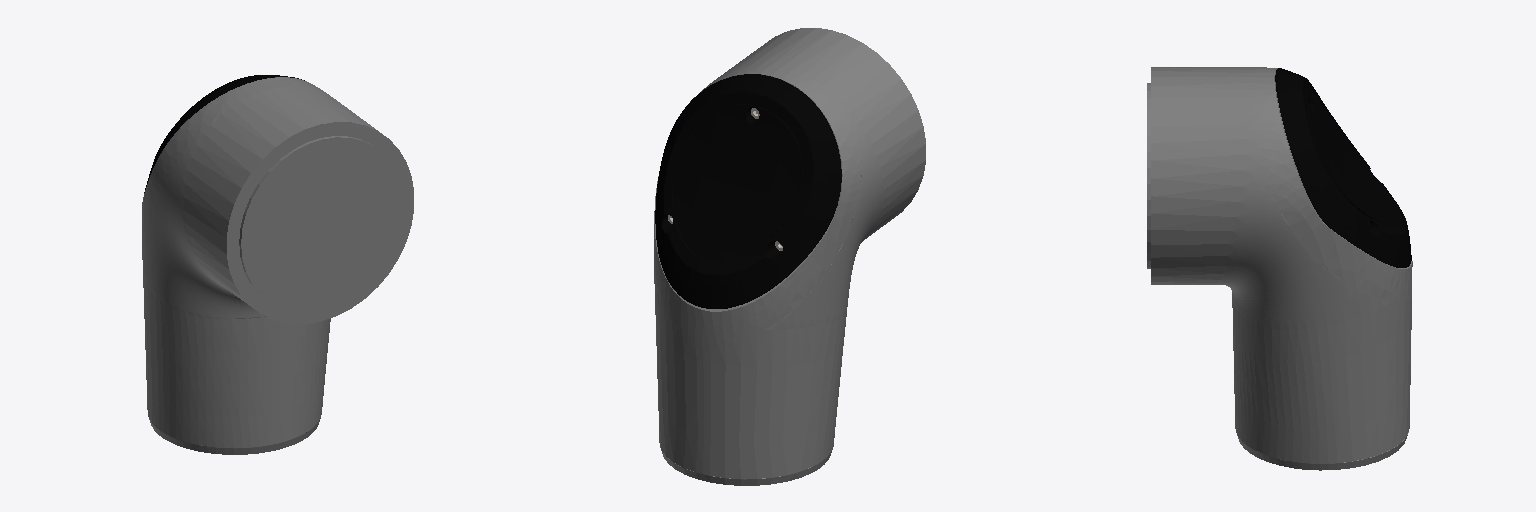
3 renders of one model, left to right at view 1: azimuth 30°, elevation 25°; view 2: azimuth 150°, elevation 25°; view 3: azimuth 270°, elevation 25°, orthographic.
Parts seen in each view (by area): view 1: Body1, Body2; view 2: Body1, Body2; view 3: Body1, Body2.
Part boxes in pixels (x1,y1,x2,y2): Body1: (142, 77, 413, 454); Body2: (144, 75, 304, 192); Body1: (654, 28, 925, 485); Body2: (655, 74, 841, 308); Body1: (1147, 67, 1412, 470); Body2: (1275, 68, 1411, 267).
Bounding box in the file's own units: 0.116 × 0.2102 × 0.1414.